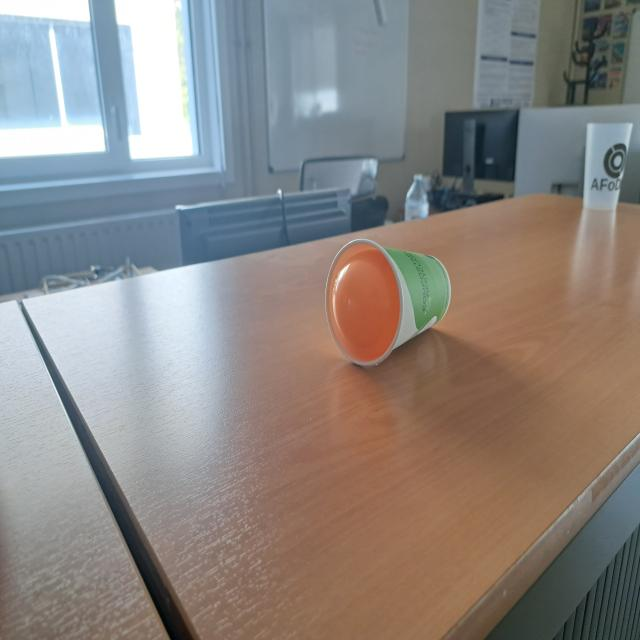orange: (330, 248, 403, 366)
